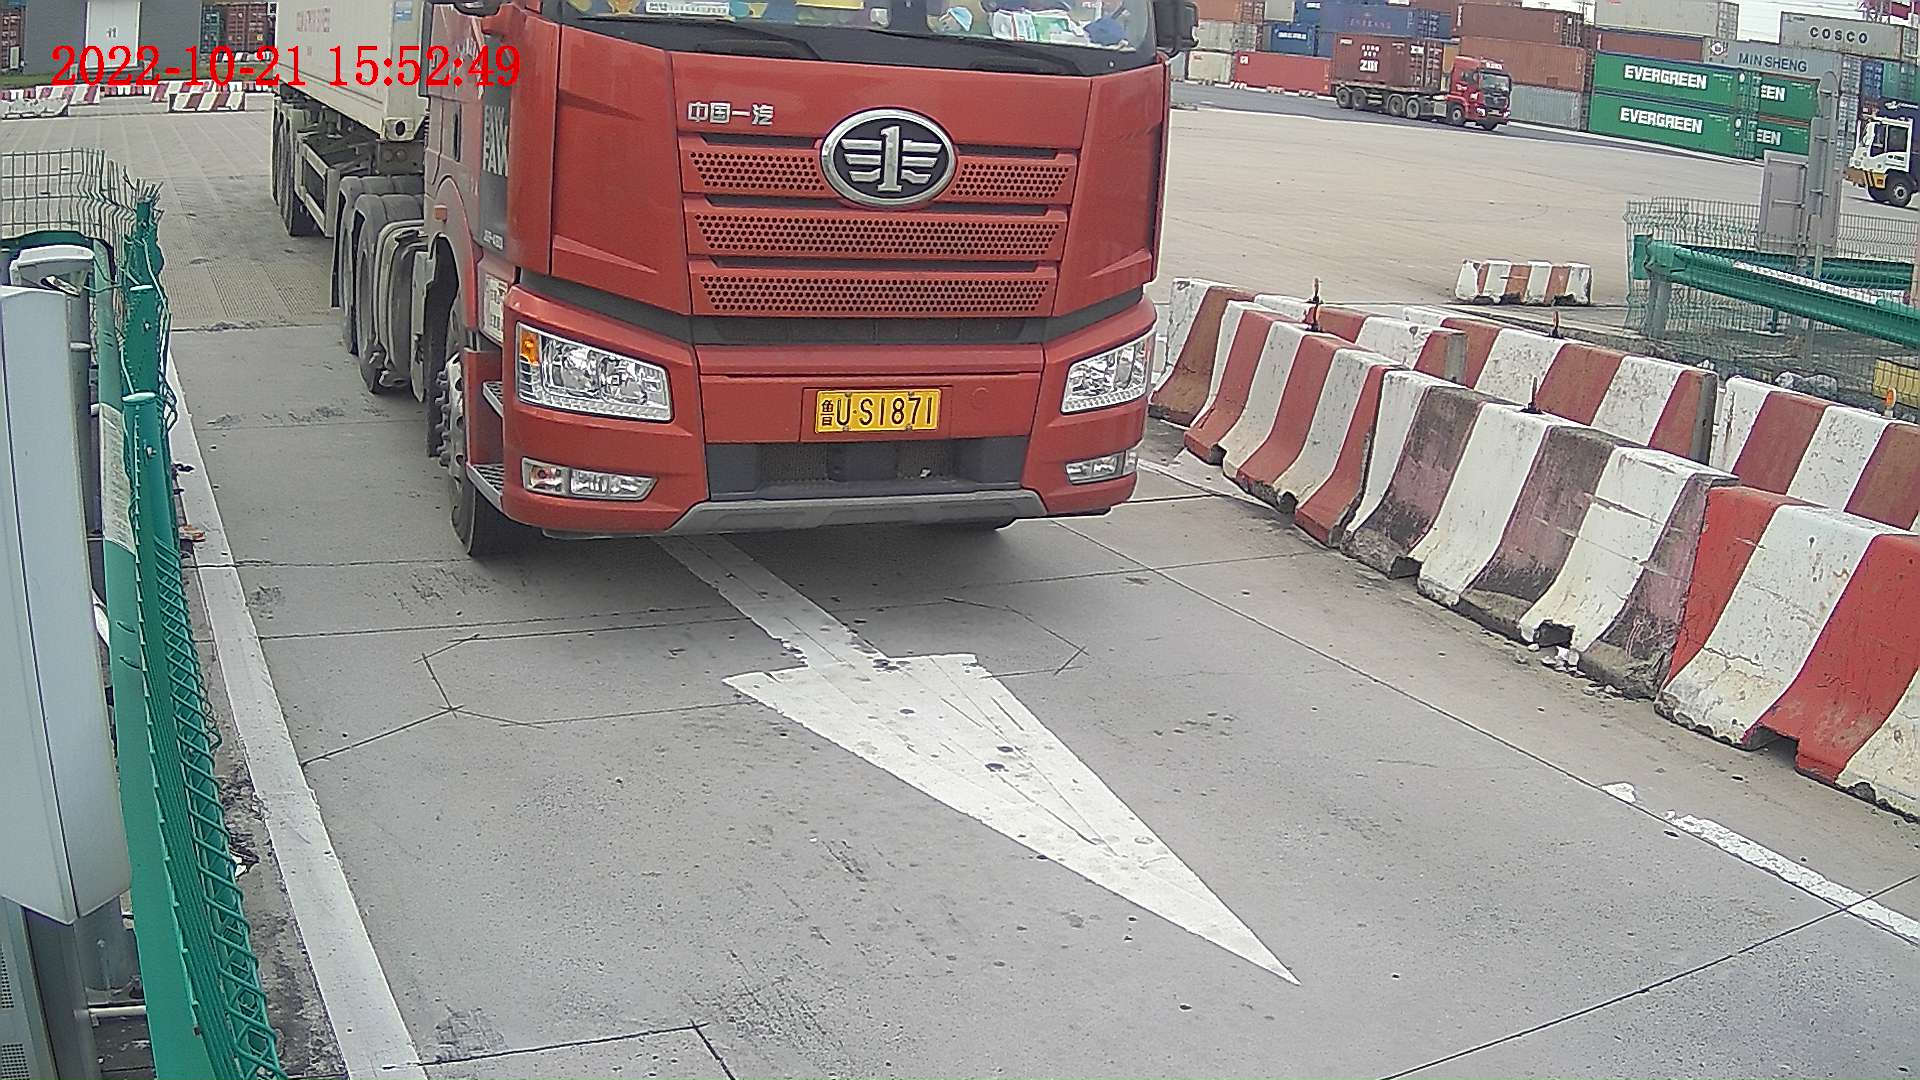head: (420, 6, 1192, 559)
plate: (816, 397, 938, 432)
